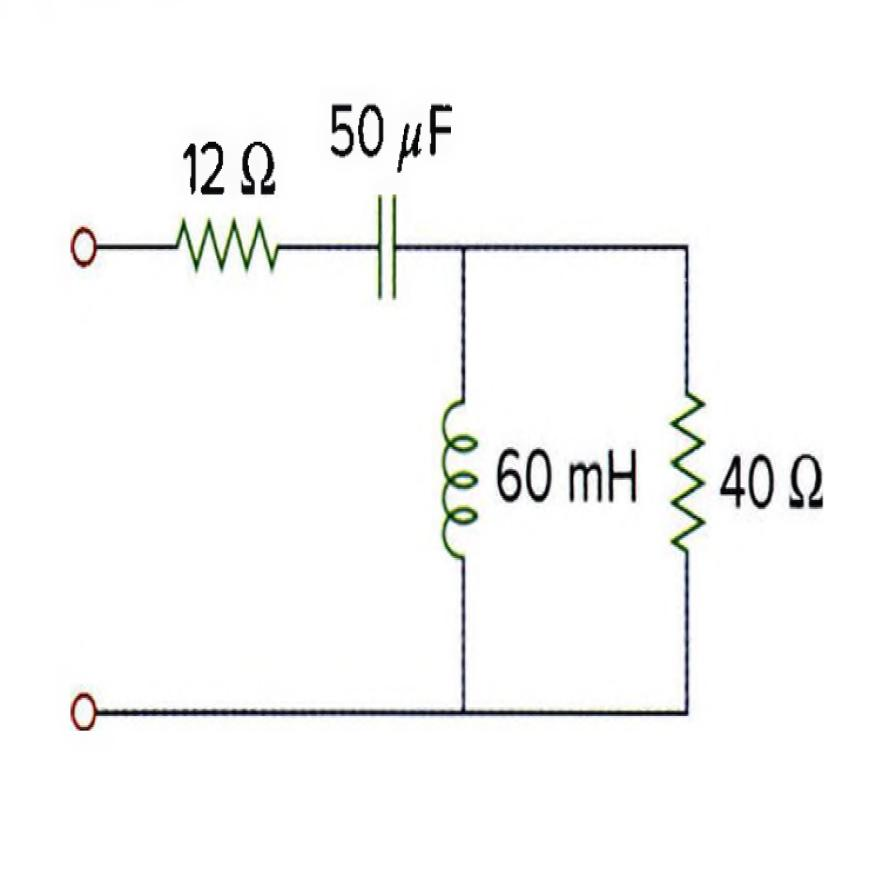C1: (355, 186, 415, 305)
L2: (432, 380, 484, 572)
